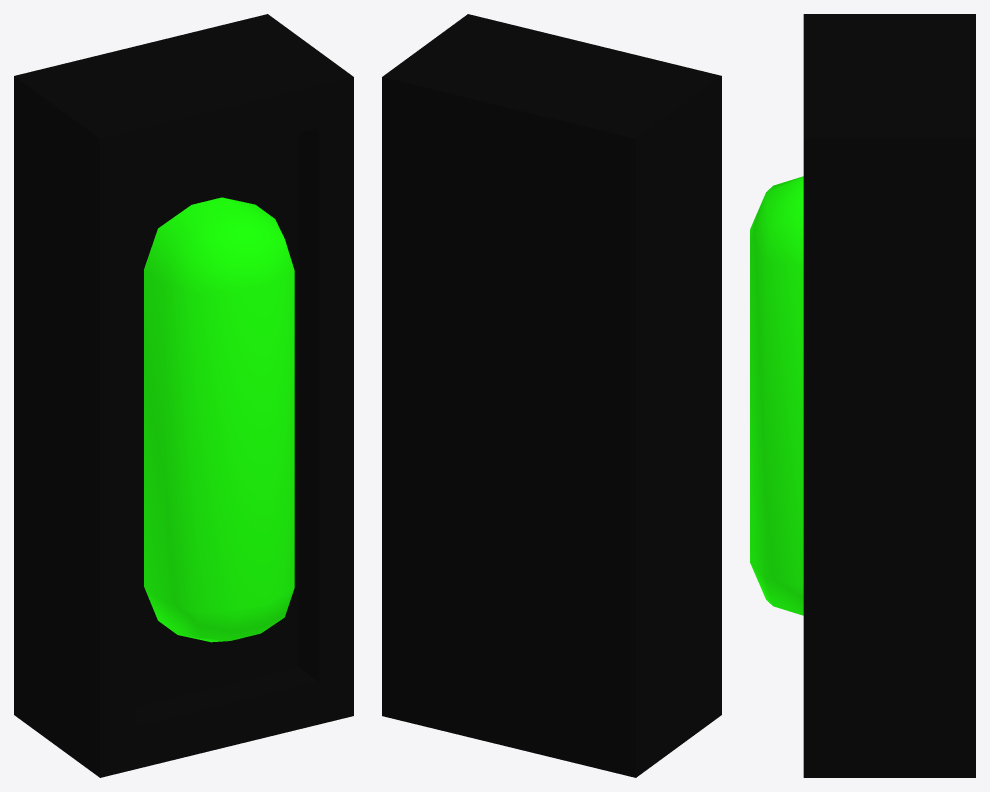
File: Lamp_Green.glb
3 views of the same model, side by side, from view 1: azimuth 30°, elevation 25°; view 2: azimuth 150°, elevation 25°; view 3: azimuth 270°, elevation 25° (orthographic).
Visible parts, largest first — view 1: Lamp; view 2: Lamp; view 3: Lamp.
Boxes of the visible parts, bbox=[...] form: Lamp: bbox=[14, 14, 353, 777]; Lamp: bbox=[382, 14, 721, 777]; Lamp: bbox=[750, 14, 975, 777].
Size of what is drawn, in the model's own units: 0.3973 by 0.9559 by 0.3059.
Materials: 1 (1 with a texture image).
